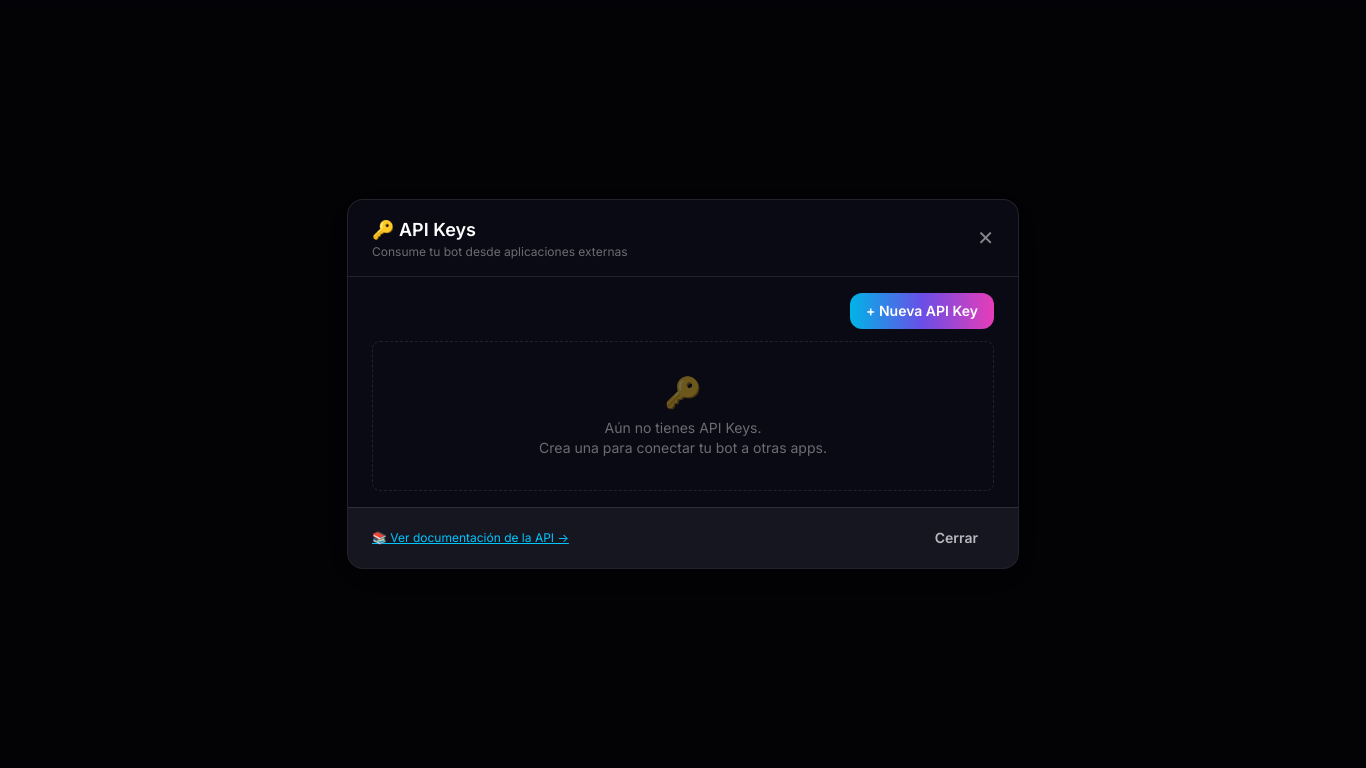
ApiKeysPanel › Crear API Key › muestra warning "No volverá a mostrarse"
Click the button "+ Nueva API Key" at [922, 311], box [850,293,994,329]
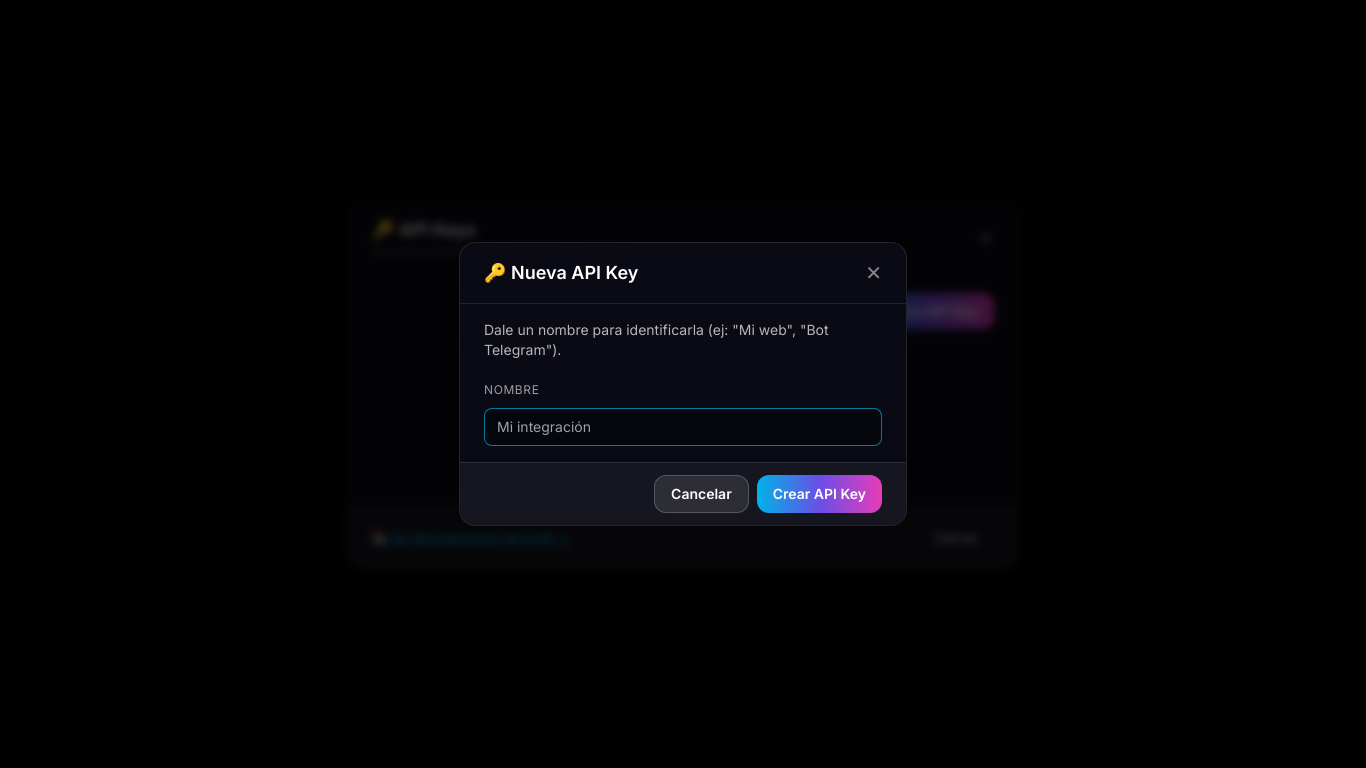
Expected: the field with placeholder "Mi integración" is shown
Type "Nueva" into the field with placeholder "Mi integración" at [683, 427], box [484,408,882,446]
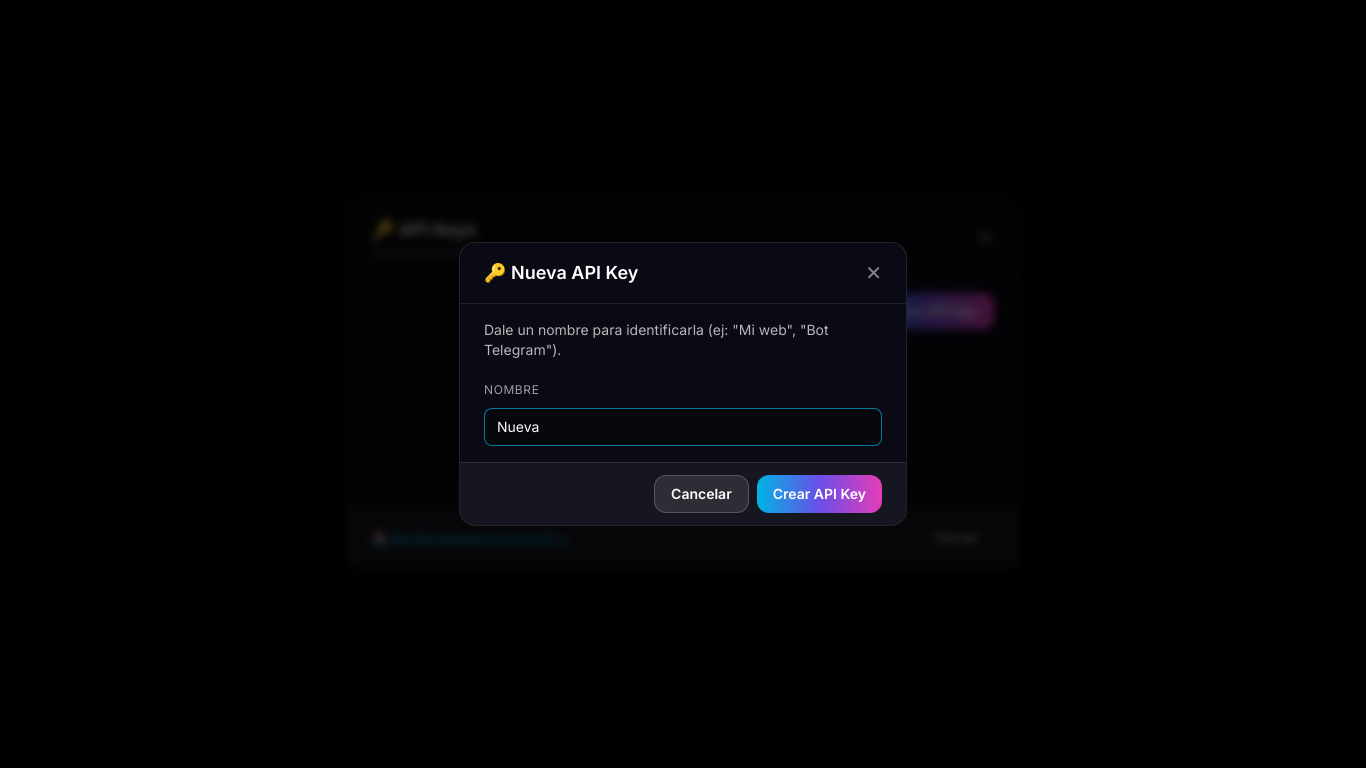
Click the button "Crear API Key" at [819, 494], box [757,475,882,513]
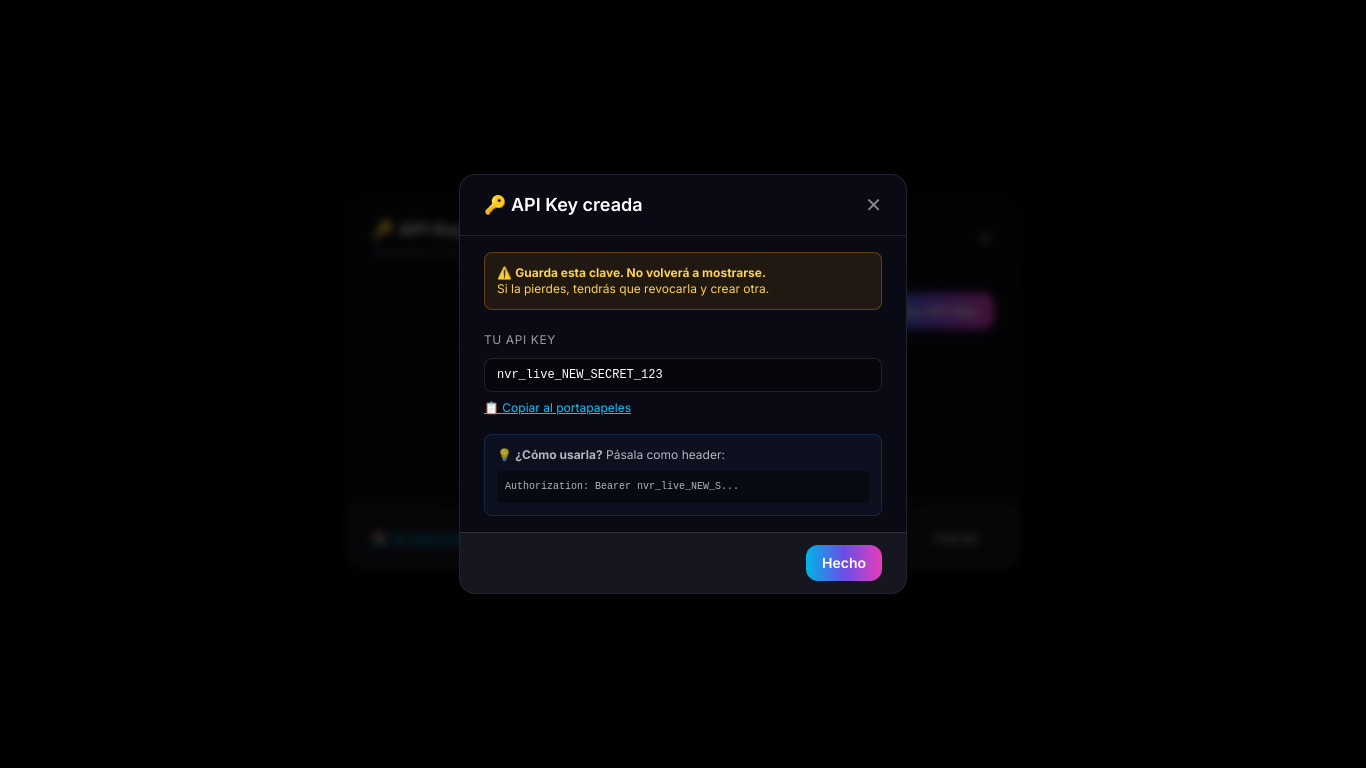
Expected: the text "Guarda esta clave. No volverá a mostrarse." is shown, [515,265,766,280]
